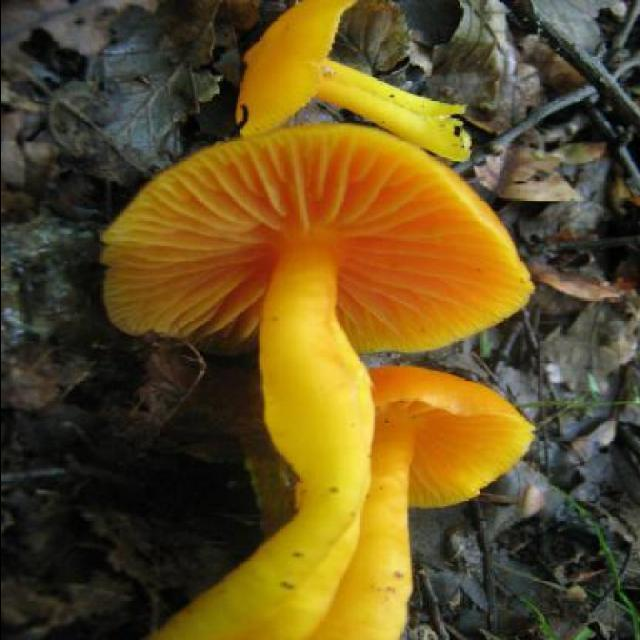Mushroom: (104, 121, 538, 639), (308, 367, 544, 639), (231, 0, 478, 146)
